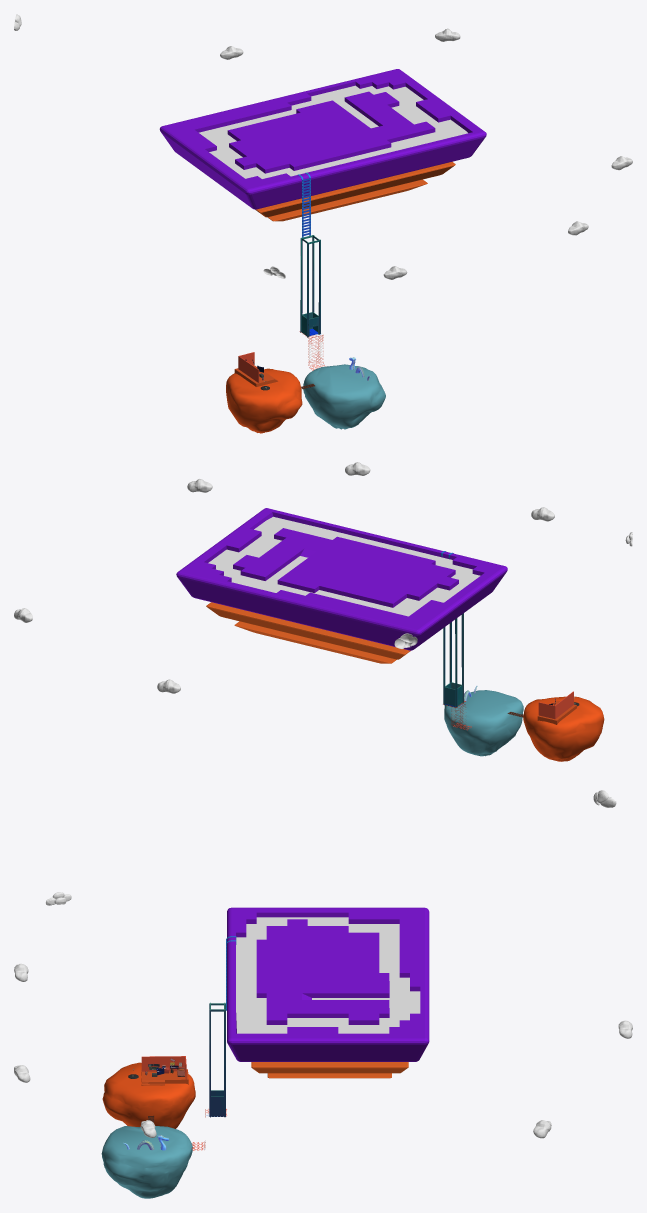
3 views of the same model, one above another, from view 1: azimuth 30°, elevation 25°; view 2: azimuth 150°, elevation 25°; view 3: azimuth 270°, elevation 25° (orthographic). The views are drawn at different scales.
Parts seen in each view (by area): view 1: 空岛, water, 立方体.030, 立方体.003, 立方体.005, 立方体.001, 立方体.007; view 2: 空岛, water, 立方体.030, 立方体.003, 立方体.005, 立方体.007, 立方体.001; view 3: 空岛, water, 立方体.030, 立方体.003, 立方体.005, 立方体.001, 立方体.007, 立方体.022.
Boxes of the visible parts, x1,y1,x2,y2 form: 空岛: (159, 69, 486, 209); water: (199, 85, 467, 178); 立方体.030: (303, 364, 385, 429); 立方体.003: (226, 368, 302, 433); 立方体.005: (255, 161, 455, 217); 立方体.001: (300, 235, 320, 337); 立方体.007: (268, 179, 427, 221); 空岛: (176, 508, 507, 650); water: (208, 516, 480, 616); 立方体.030: (444, 690, 523, 756); 立方体.003: (523, 696, 604, 761); 立方体.005: (206, 602, 410, 659); 立方体.007: (234, 621, 396, 663); 立方体.001: (443, 613, 463, 707); 空岛: (227, 907, 429, 1061); water: (236, 917, 420, 1033); 立方体.030: (101, 1126, 192, 1198); 立方体.003: (102, 1062, 195, 1128); 立方体.005: (251, 1062, 408, 1073); 立方体.001: (209, 1002, 225, 1117); 立方体.007: (267, 1073, 391, 1078); 立方体.022: (141, 1069, 188, 1085).
Bounding box in the file's own units: 37.99 × 25.46 × 42.5.
66 materials, 15 textured.
